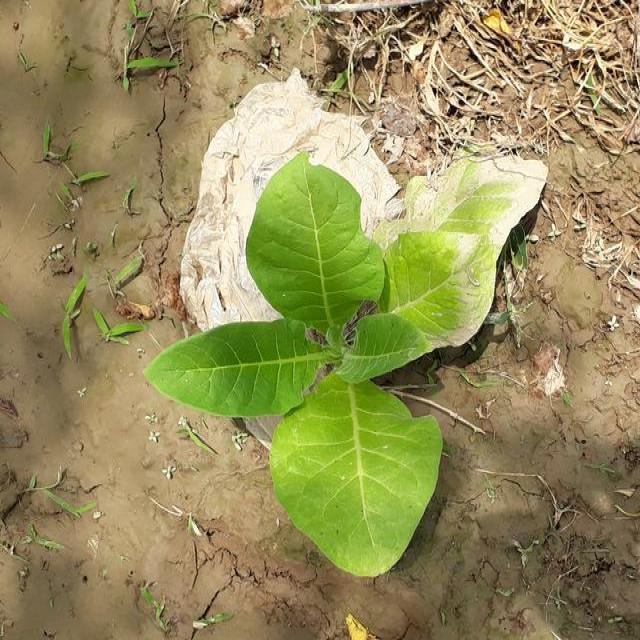crop: (174, 166, 542, 573)
